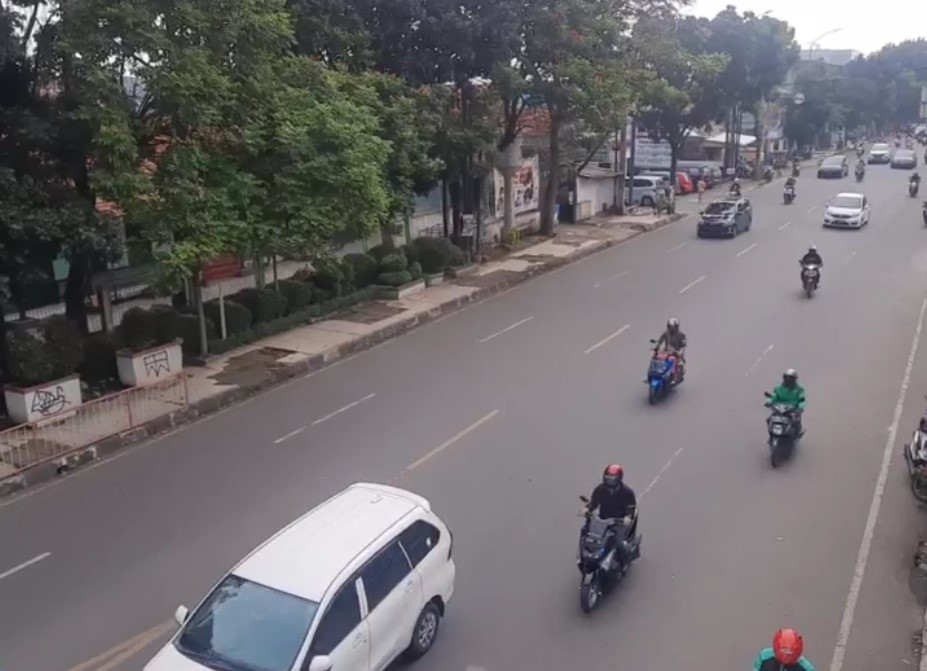motor: (575, 469, 648, 611), (635, 311, 695, 397), (761, 365, 808, 467), (793, 243, 824, 307)
